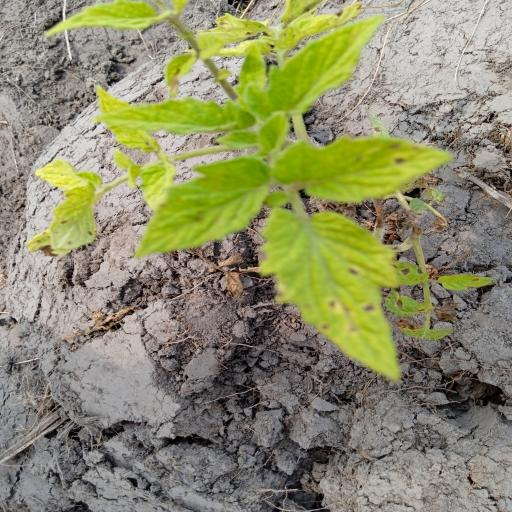Tomato_Brown_Spots: (258, 201, 418, 386)
